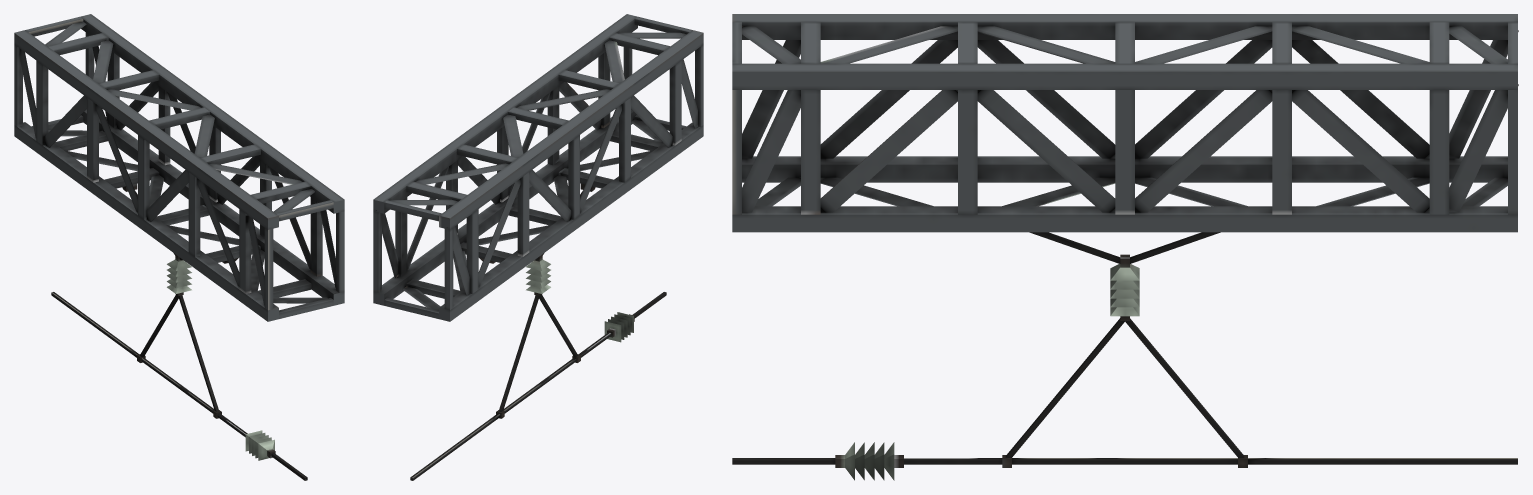
File: mvp_ir_overtop_empty.obj
3 renders of one model, left to right at view 1: azimuth 30°, elevation 25°; view 2: azimuth 150°, elevation 25°; view 3: azimuth 270°, elevation 25°, orthographic. The views are drawn at different scales.
Visible parts, largest first — view 1: RAIL_BASE_overtop, RAIL_LEFT_overtop; view 2: RAIL_BASE_overtop, RAIL_RIGHT_overtop; view 3: RAIL_BASE_overtop, RAIL_LEFT_overtop, RAIL_RIGHT_overtop.
Part boxes in pixels (<box>): RAIL_BASE_overtop: <box>14,14,344,480</box>; RAIL_LEFT_overtop: <box>178,295,218,411</box>; RAIL_BASE_overtop: <box>373,14,703,480</box>; RAIL_RIGHT_overtop: <box>499,295,539,411</box>; RAIL_BASE_overtop: <box>732,14,1518,480</box>; RAIL_LEFT_overtop: <box>1005,318,1124,457</box>; RAIL_RIGHT_overtop: <box>1125,318,1244,457</box>.
Bounding box in the file's own units: 0.875 × 3.03 × 5.01.
1 material, 1 textured.
